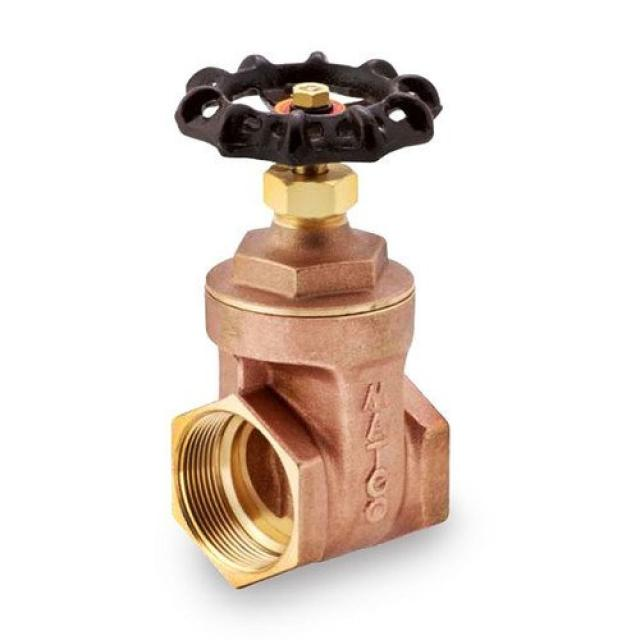Wheel Handle Valve Threaded: (140, 26, 471, 610)
